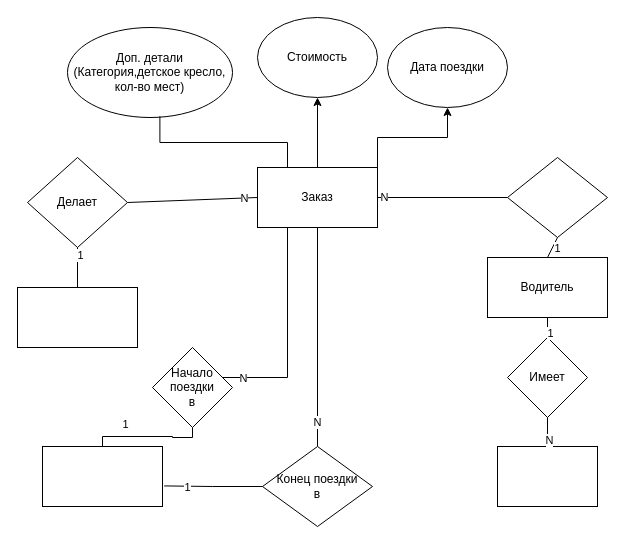
The diagram is 625 pixels wide and 544 high, and some of its shapes have lost their labels. Here are the shapes that lost their labels. From the top down, the centre of each, then its label:
At point 557,197: "Берёт заказ".
At point 77,317: "Пользователь".
At point 102,476: "Местоположение".
At point 547,476: "Машина".
